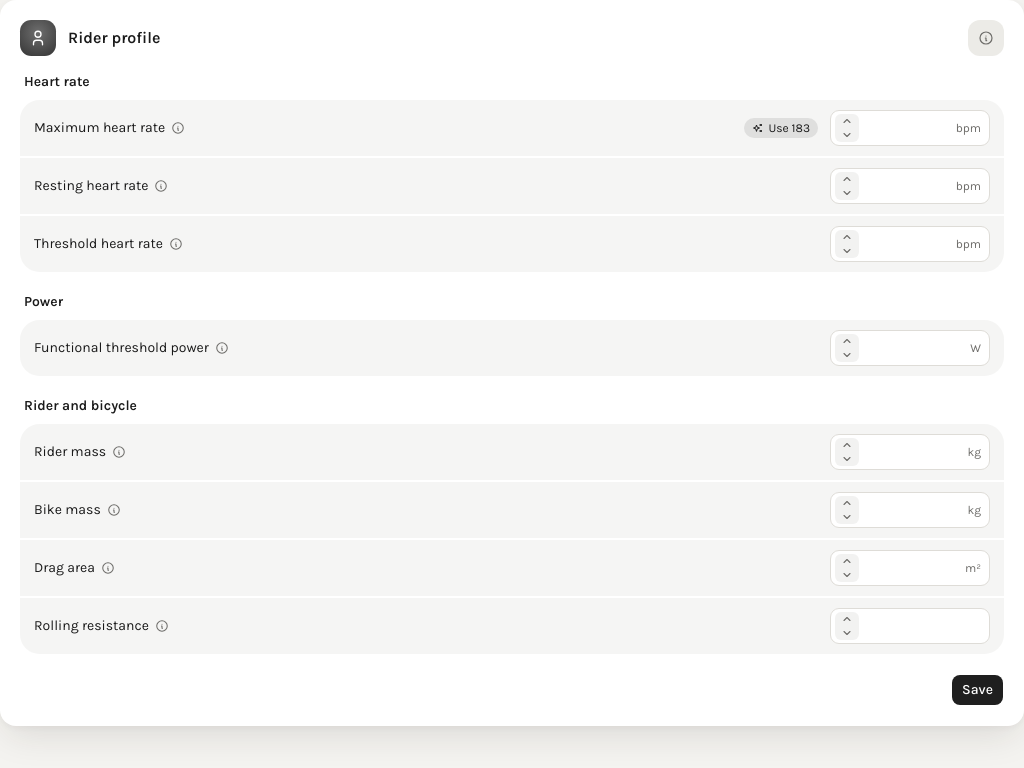
RiderProfile › fills a field with its suggestion only when the rider takes it
Click the button with aria-label "Use the suggested maximum heart rate, 183 bpm" at (781, 128), box [744,118,818,138]
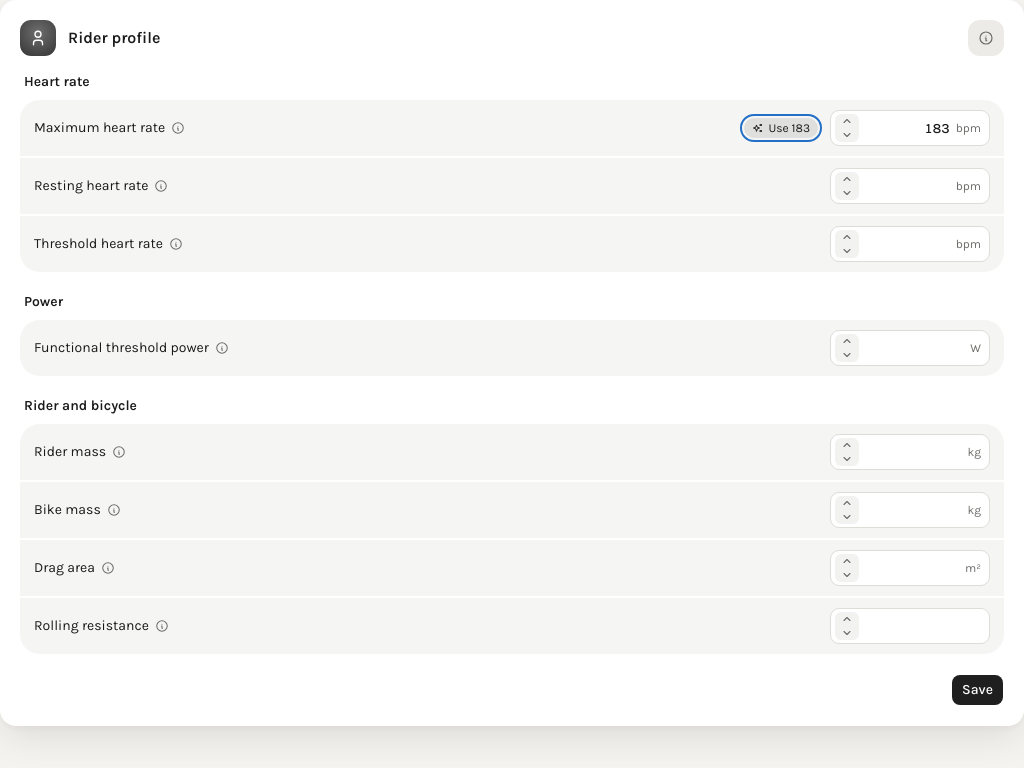
expect the number field named "Maximum heart rate (bpm)" holds "183": met, box [859,112,956,144]
